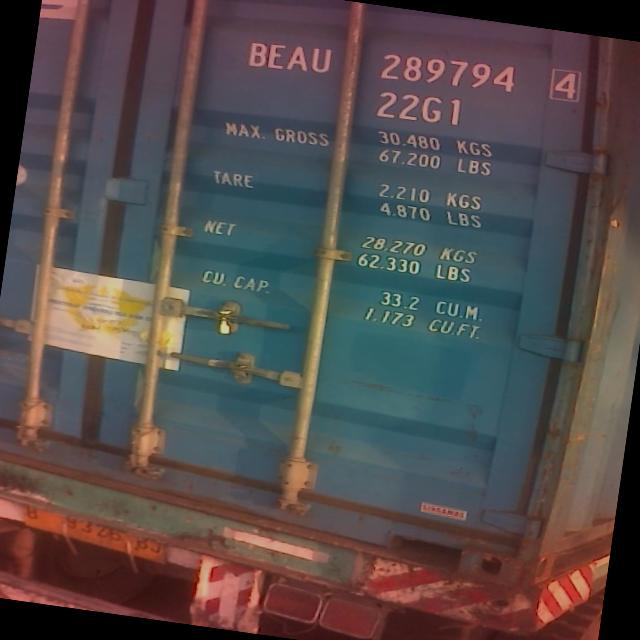seal: (212, 309, 245, 336)
